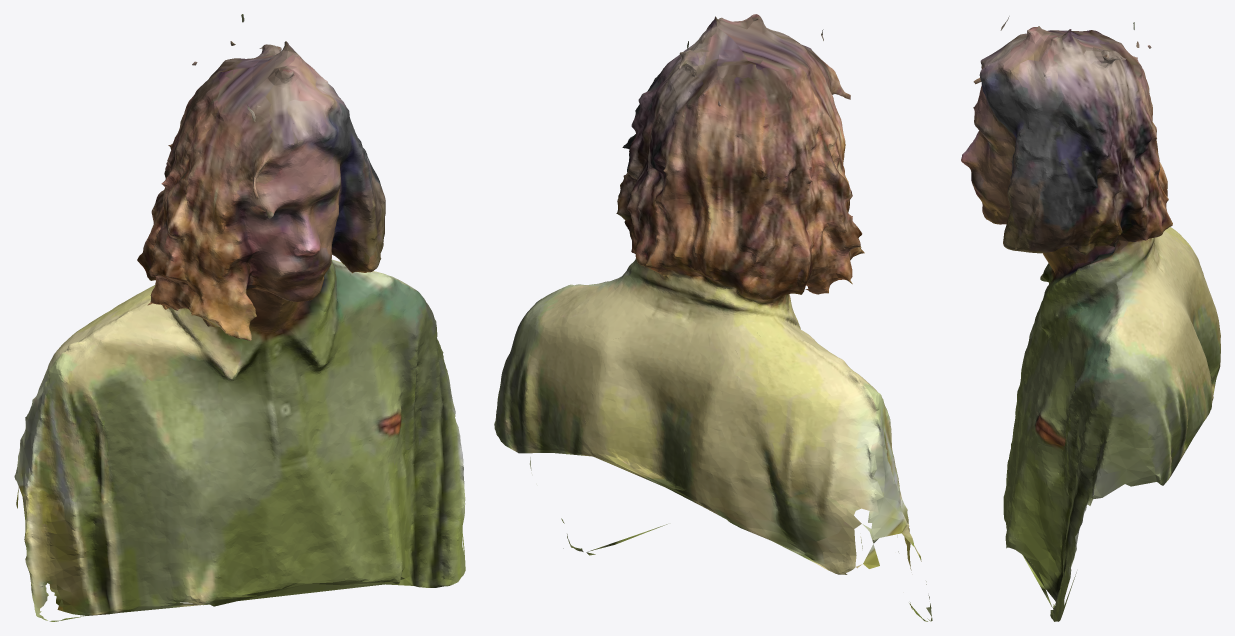
3 renders of one model, left to right at view 1: azimuth 30°, elevation 25°; view 2: azimuth 150°, elevation 25°; view 3: azimuth 270°, elevation 25°, orthographic. The views are drawn at different scales.
Visible parts, largest first — view 1: mesh; view 2: mesh; view 3: mesh.
Part boxes in pixels (x1=…): mesh: x1=14, y1=14, x2=465, y2=621; mesh: x1=494, y1=14, x2=932, y2=621; mesh: x1=961, y1=16, x2=1220, y2=621.
Bounding box in the file's own units: 0.5137 × 0.6803 × 0.3059.
Materials: 1 (1 with a texture image).
